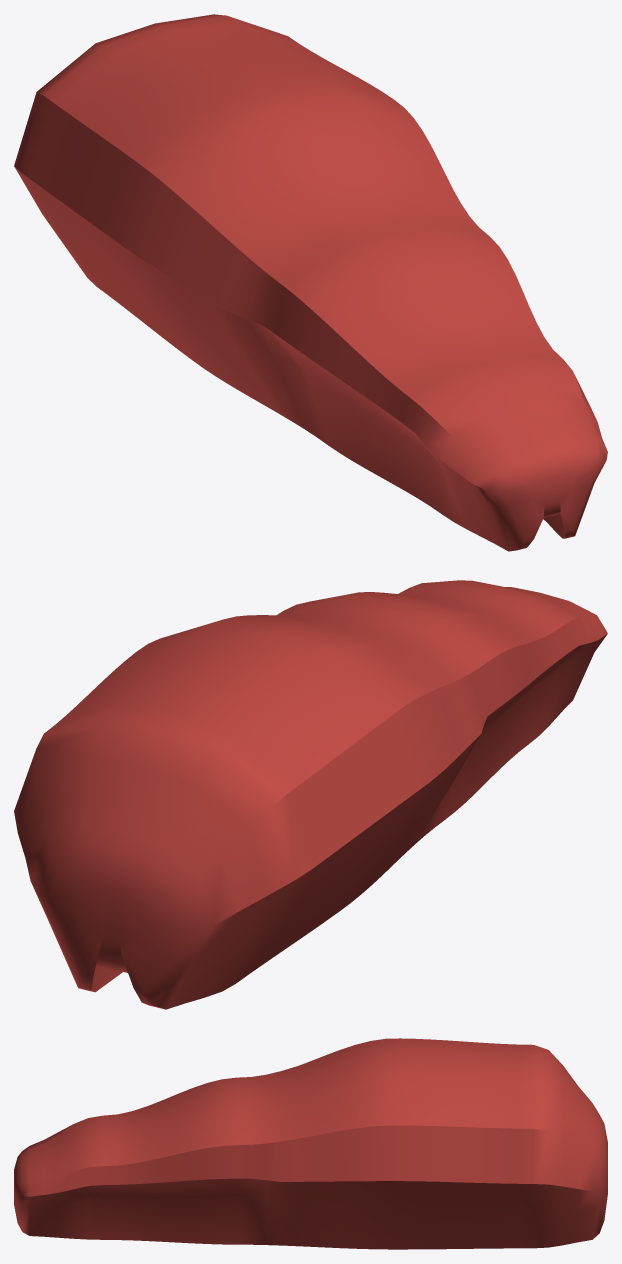
3 renders of one model, top to bottom at view 1: azimuth 30°, elevation 25°; view 2: azimuth 150°, elevation 25°; view 3: azimuth 270°, elevation 25°, orthographic. The views are drawn at different scales.
Visible parts, largest first — view 1: lod0; view 2: lod0; view 3: lod0.
Boxes of the visible parts, box(x1,y1,x2,y2) form: lod0: box(14, 14, 607, 551); lod0: box(14, 580, 607, 1009); lod0: box(14, 1038, 607, 1249).
Size of what is drawn, in the model's own units: 0.3999 by 0.3149 by 1.
